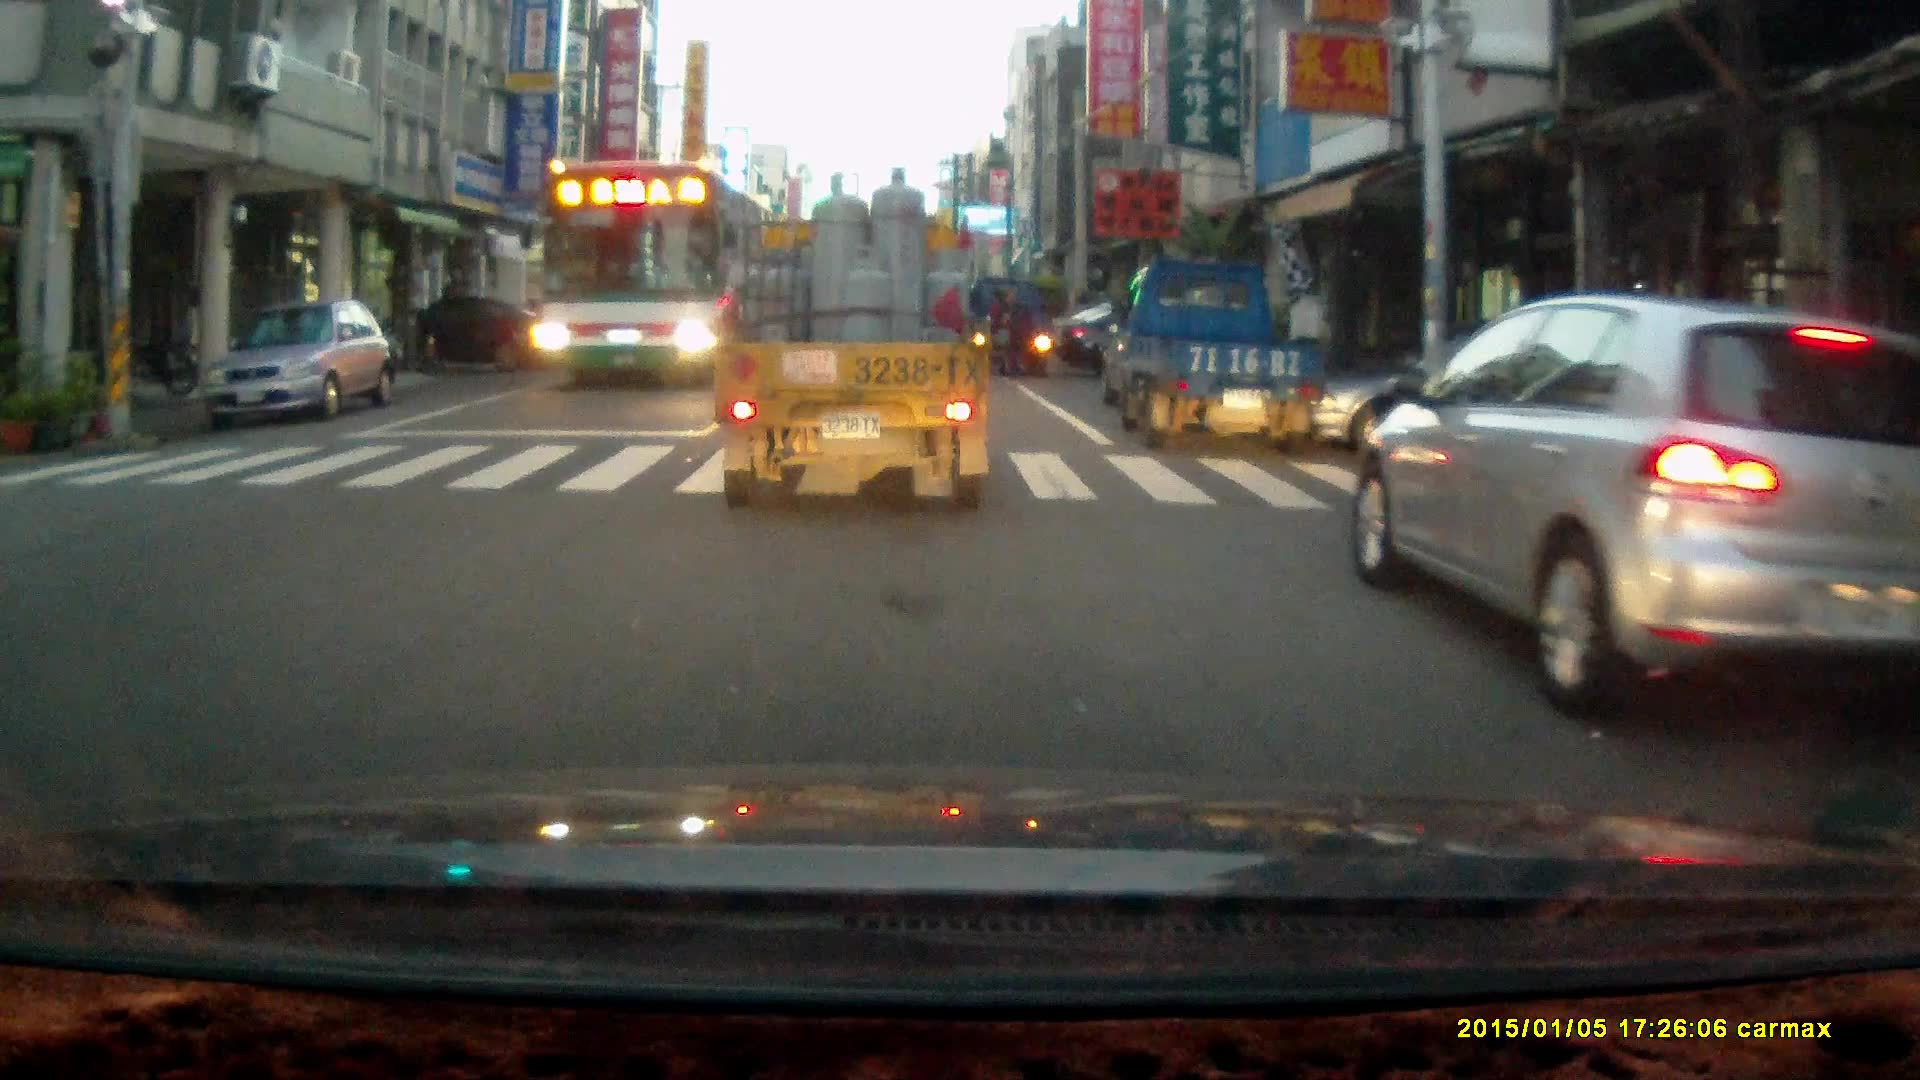pedestrian: (994, 284, 1035, 380)
vehicle: (1351, 296, 1920, 718), (719, 162, 998, 516), (530, 157, 770, 389), (1102, 256, 1325, 453), (196, 291, 402, 427), (378, 292, 558, 373), (969, 272, 1064, 381)
